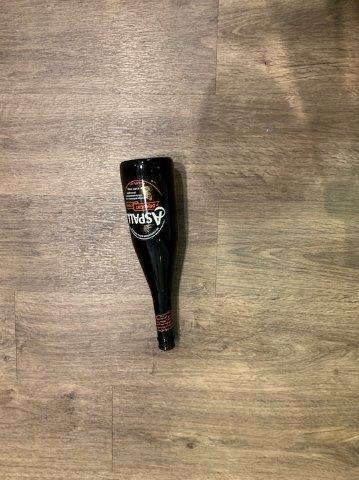botolkaca: (119, 157, 177, 349)
